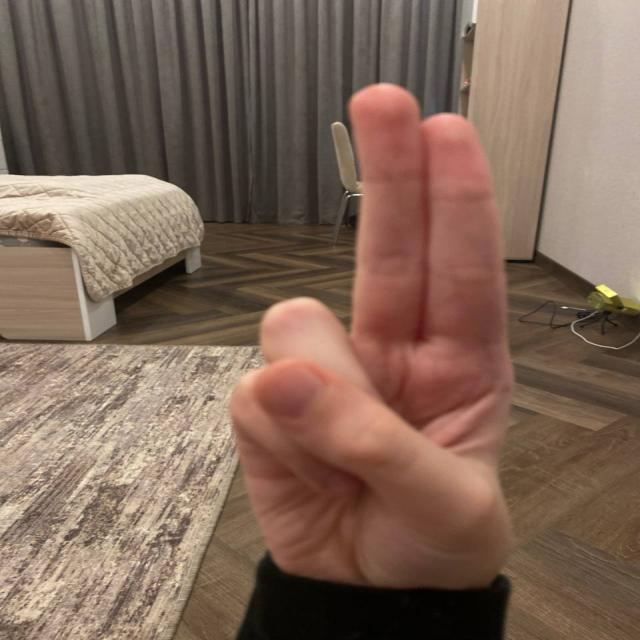ts: (240, 80, 549, 562)
